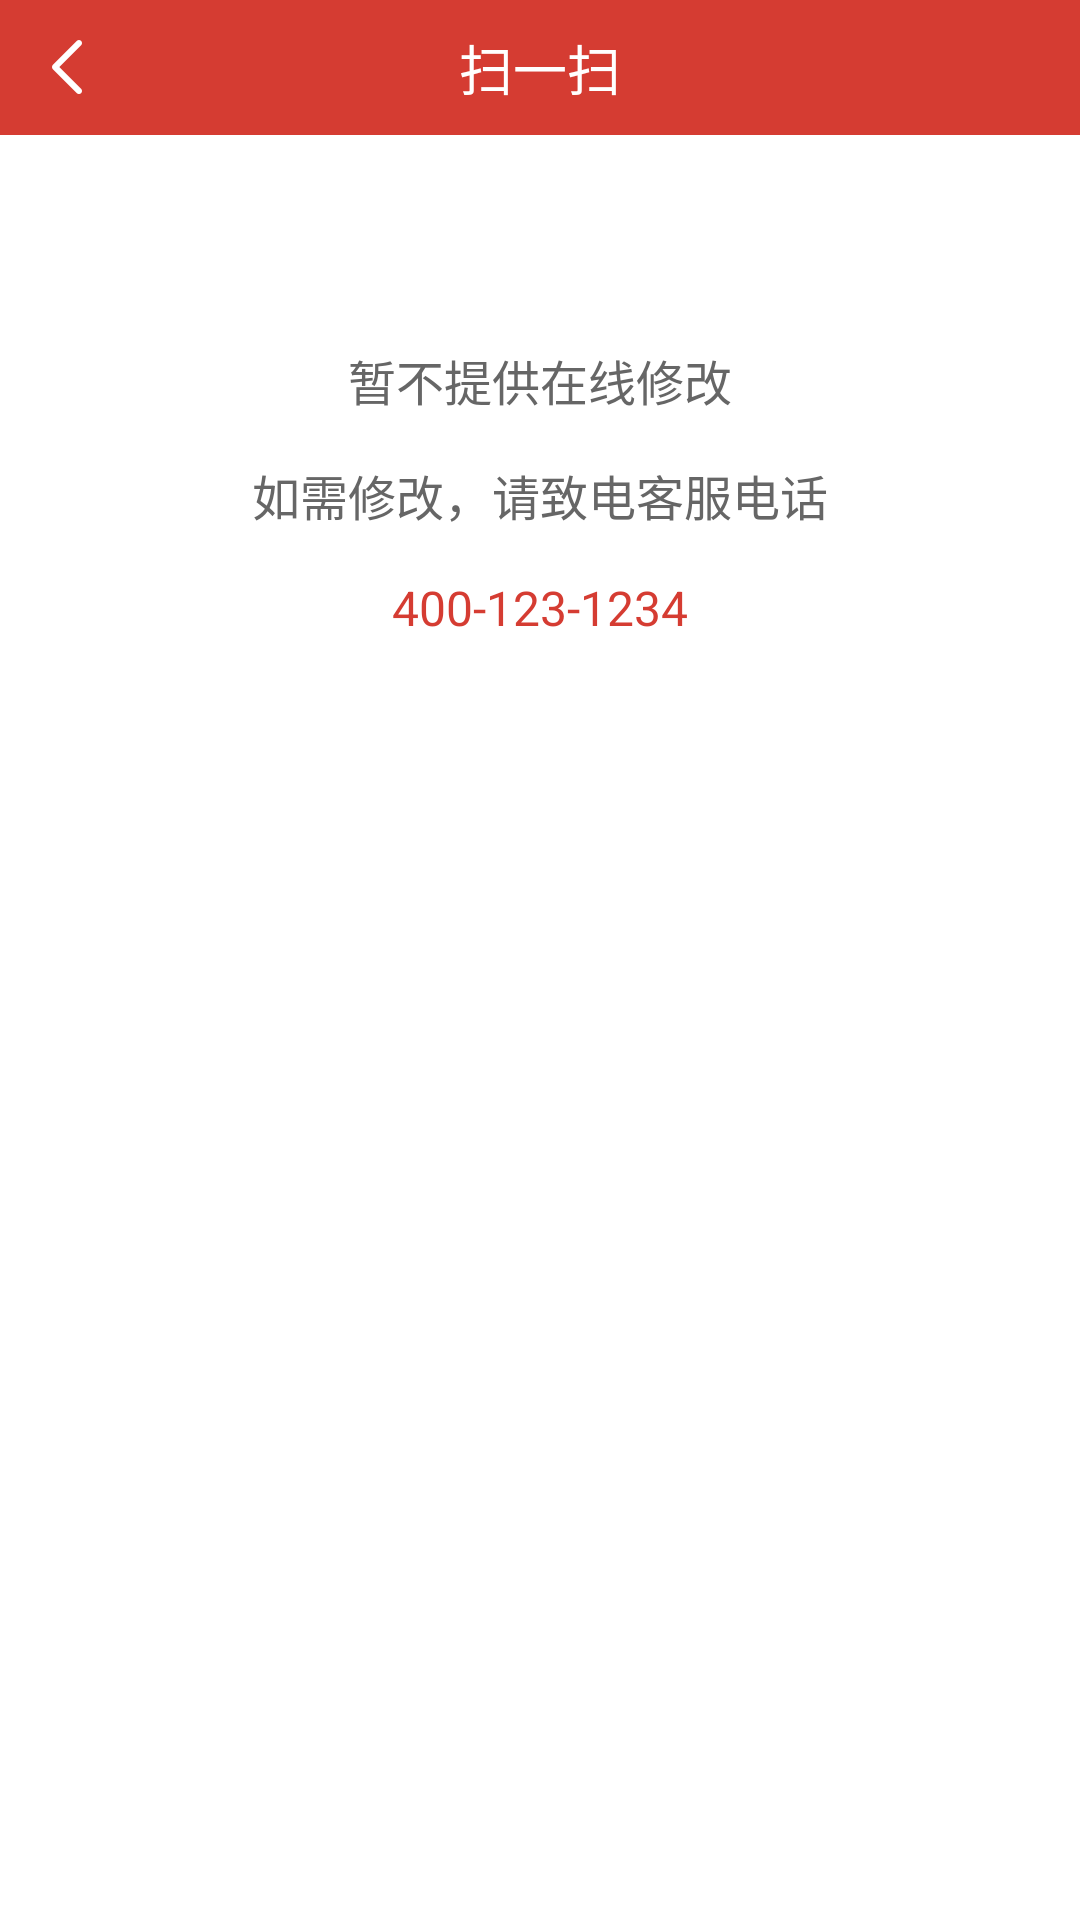

Icons on this 1080px×1920px Android screen, each with the point to tap as (x=x, y=y):
class back: (x=67, y=67)
